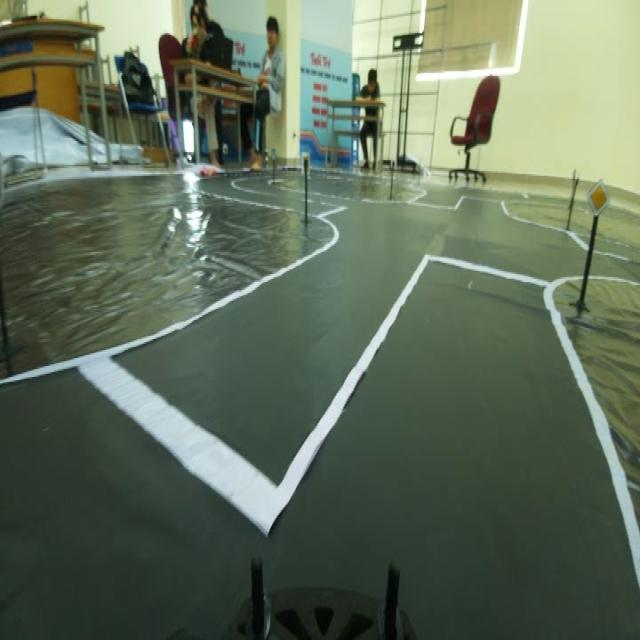priority: (584, 172, 612, 218)
